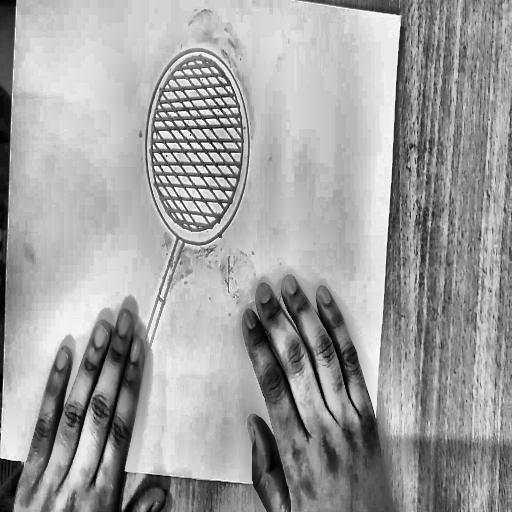badminton: (74, 22, 318, 459)
top_right: (398, 12, 403, 21)
